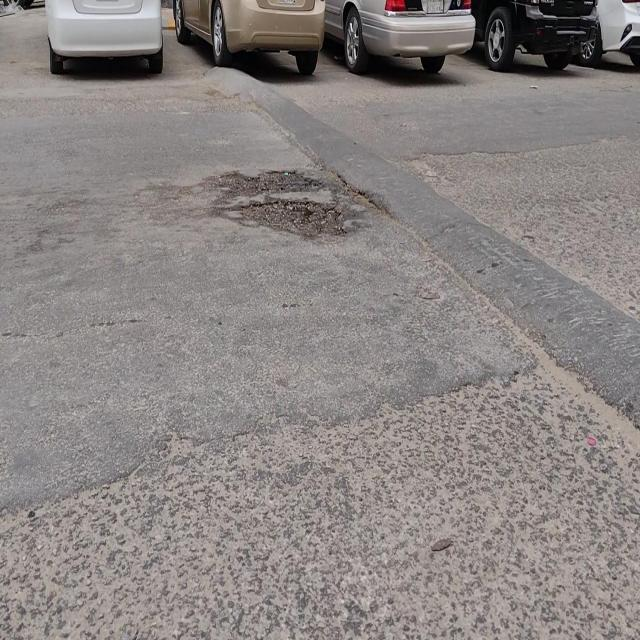Potholes: (214, 165, 341, 242)
